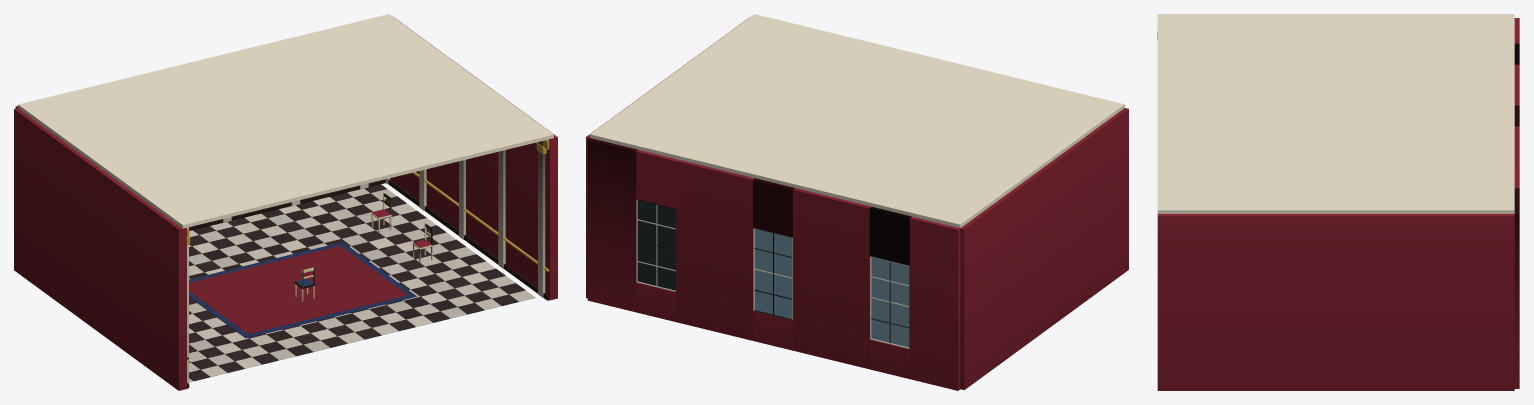
The model's file is palace.glb.
3 renders of one model, left to right at view 1: azimuth 30°, elevation 25°; view 2: azimuth 150°, elevation 25°; view 3: azimuth 270°, elevation 25°, orthographic. The views are drawn at different scales.
Visible parts, largest first — view 1: palace.plaster.6, palace.plaster.5, palace.tile.1, palace.tile.0, palace.fabric.16, palace.paint.9, palace.fabric.15, palace.paint.7, palace.plank.17, palace.brass.8; view 2: palace.plaster.5, palace.plaster.6, palace.glass.2, palace.paint.3; view 3: palace.plaster.6, palace.plaster.5.
Part boxes in pixels (x1,y1,x2,y2): palace.plaster.6: (18,14,553,228); palace.plaster.5: (14,17,557,390); palace.tile.1: (189,189,535,382); palace.tile.0: (189,184,525,381); palace.fabric.16: (189,209,431,333); palace.paint.9: (187,141,545,383); palace.fabric.15: (189,242,416,338); palace.paint.7: (187,179,549,388); palace.plank.17: (294,192,432,301); palace.brass.8: (186,139,549,359); palace.plaster.5: (586,17,1128,390); palace.plaster.6: (590,14,1124,228); palace.glass.2: (637,200,909,347); palace.paint.3: (636,199,909,348); palace.plaster.6: (1157,14,1514,213); palace.plaster.5: (1157,18,1519,390).
Bounding box in the file's own units: 13.28 × 5.54 × 10.15.
